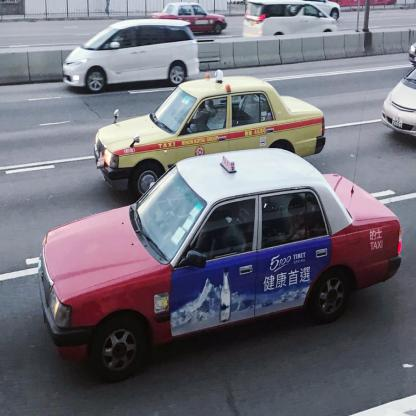taxi: (35, 150, 406, 388)
